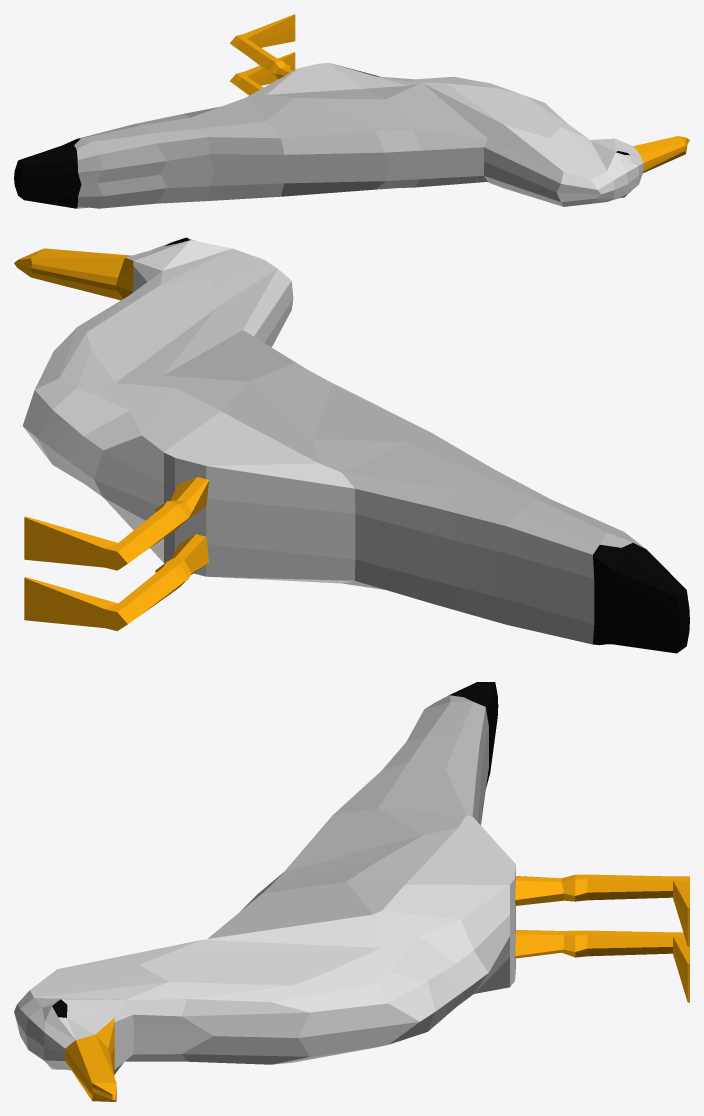
The model's file is SeagullOld.glb.
3 views of the same model, one above another, from view 1: azimuth 30°, elevation 25°; view 2: azimuth 150°, elevation 25°; view 3: azimuth 270°, elevation 25° (orthographic). The views are drawn at different scales.
Visible parts, largest first — view 1: SeagullOld; view 2: SeagullOld; view 3: SeagullOld.
Part boxes in pixels (x1,y1,x2,y2): SeagullOld: (14, 14, 689, 208); SeagullOld: (14, 237, 689, 653); SeagullOld: (14, 682, 689, 1101).
Bounding box in the file's own units: 1.46 × 0.1938 × 1.06.
1 material, 1 textured.
